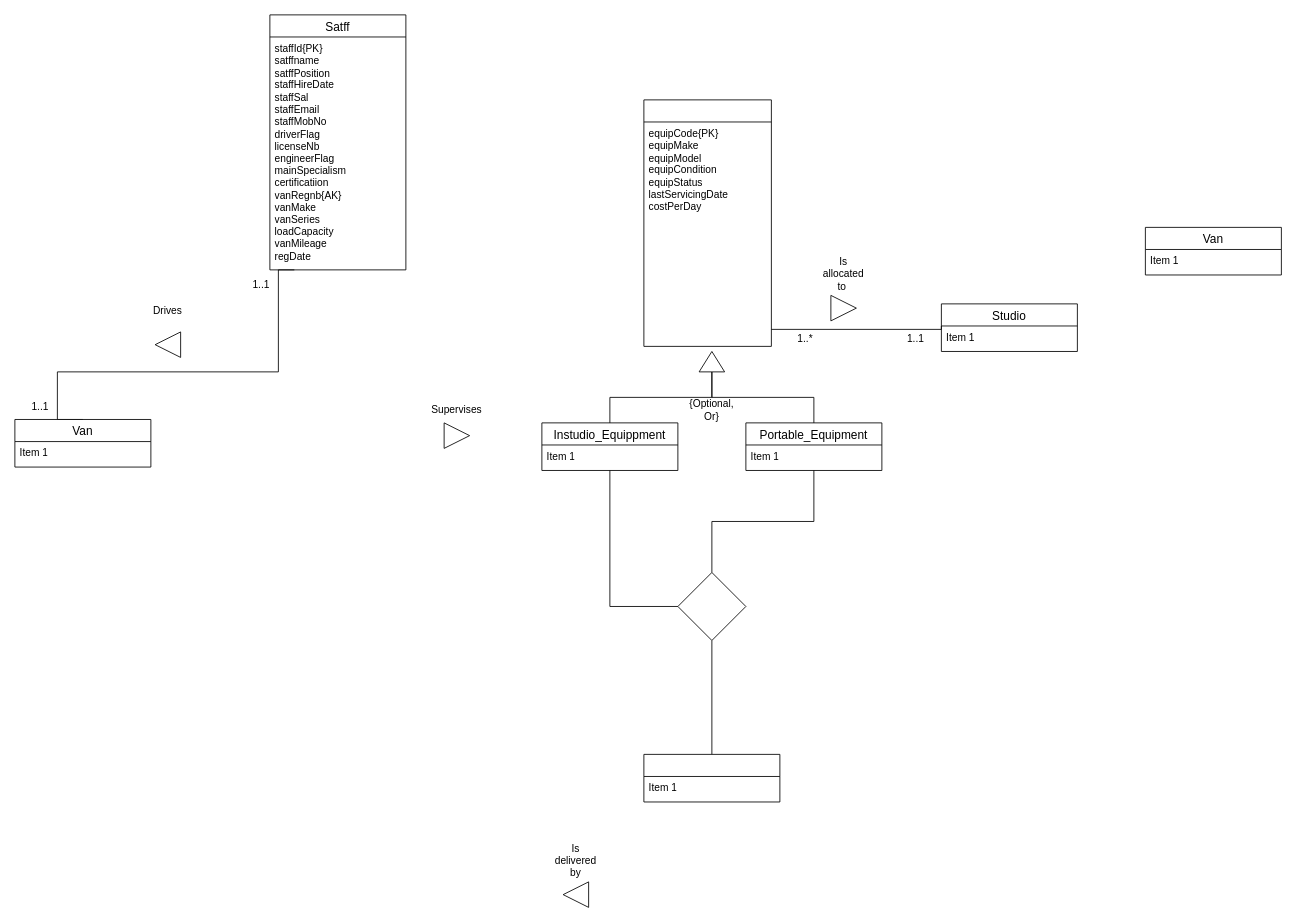
Image size: 1296x922. Some labels were removed from this diagram. The box of each missing label's shape, as (x1, y1, x2, y2) in pixels:
Customer: (643, 754, 780, 802)
Equipment: (643, 99, 771, 346)
Hires: (677, 572, 746, 640)
